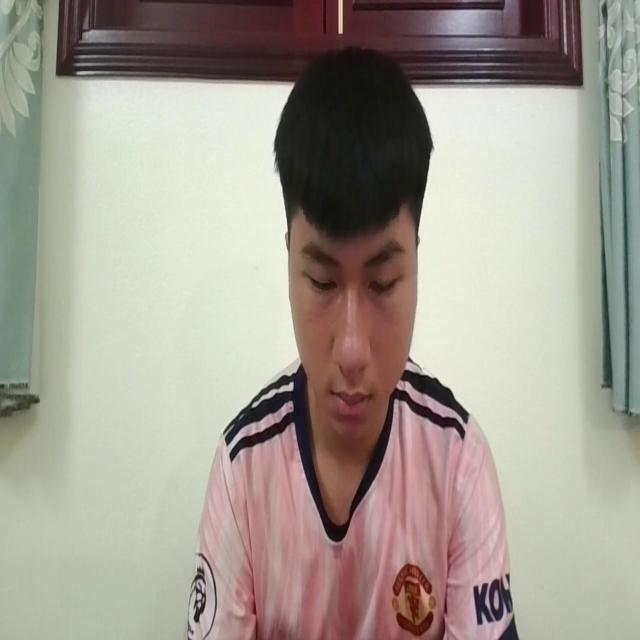student: (185, 46, 515, 640)
